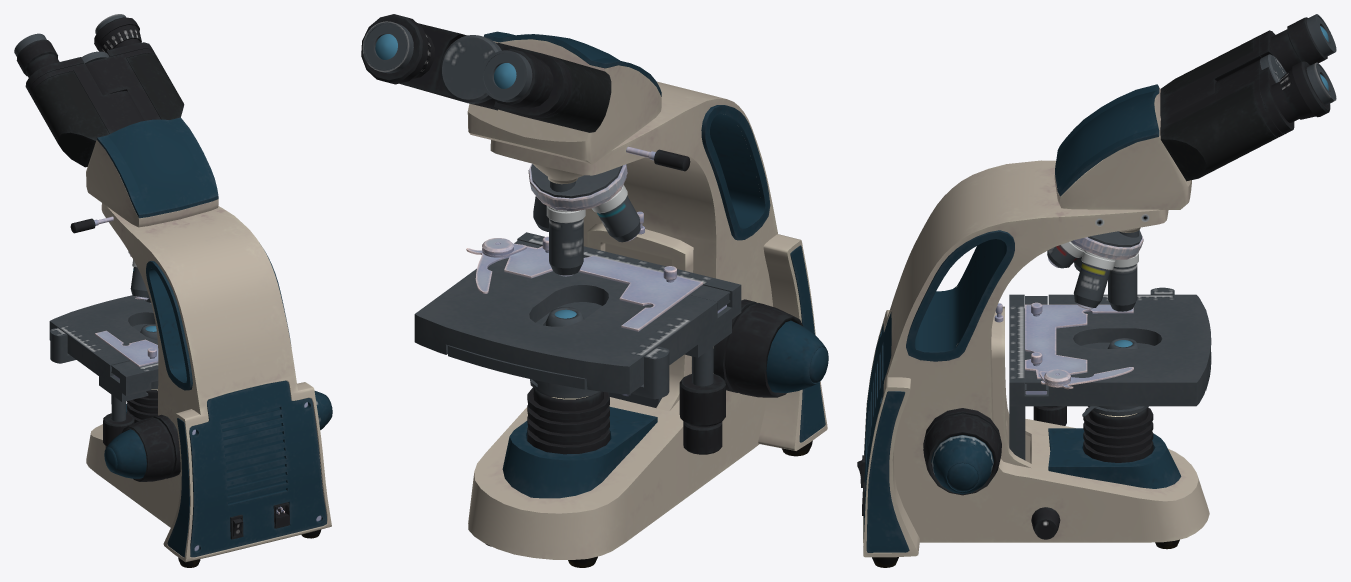
Rendered from microscope.glb.
3 renders of one model, left to right at view 1: azimuth 30°, elevation 25°; view 2: azimuth 150°, elevation 25°; view 3: azimuth 270°, elevation 25°, orthographic. The views are drawn at different scales.
Visible parts, largest first — view 1: MicroscopeBase_LowPoly__0, BackPanel_LowPoly__0, BinocularRotationalHeadTop_LowPoly__0, Binocular2_LowPoly__0, Platform_LowPoly__0, Binocular1_LowPoly__0, Handle_LowPoly__0, BinocularRotationalHead_LowPoly__0, CoarseAdjustment_LowPoly__0, FineAdjustment_LowPoly__0, SidePanel_LowPoly__0, SlideHolder_LowPoly__0 (+5 smaller); view 2: MicroscopeBase_LowPoly__0, Platform_LowPoly__0, BinocularRotationalHead_LowPoly__0, LightProtection_LowPoly__0, Handle_LowPoly__0, Binocular2_LowPoly__0, SlideHolder_LowPoly__0, CoarseAdjustment_LowPoly__0, HeadLight_LowPoly__0, Binocular1_LowPoly__0, FineAdjustment_LowPoly__0, BinocularLens_LowPoly__0 (+16 smaller); view 3: MicroscopeBase_LowPoly__0, Platform_LowPoly__0, Binocular1_LowPoly__0, Handle_LowPoly__0, BinocularRotationalHead_LowPoly__0, BinocularRotationalHeadTop_LowPoly__0, Binocular2_LowPoly__0, LightProtection_LowPoly__0, SidePanel_LowPoly__0, SlideHolder_LowPoly__0, HeadLight_LowPoly__0, ObjectiveLens_LowPoly__0 (+9 smaller).
Boxes of the visible parts, x1=… form: MicroscopeBase_LowPoly__0: x1=86, y1=203, x2=331, y2=562; BackPanel_LowPoly__0: x1=189, y1=380, x2=326, y2=557; BinocularRotationalHeadTop_LowPoly__0: x1=97, y1=117, x2=218, y2=218; Binocular2_LowPoly__0: x1=16, y1=39, x2=144, y2=167; Platform_LowPoly__0: x1=49, y1=295, x2=158, y2=395; Binocular1_LowPoly__0: x1=85, y1=17, x2=184, y2=120; Handle_LowPoly__0: x1=146, y1=250, x2=290, y2=390; BinocularRotationalHead_LowPoly__0: x1=86, y1=140, x2=218, y2=227; CoarseAdjustment_LowPoly__0: x1=122, y1=414, x2=180, y2=481; FineAdjustment_LowPoly__0: x1=104, y1=391, x2=332, y2=478; SidePanel_LowPoly__0: x1=167, y1=418, x2=189, y2=557; SlideHolder_LowPoly__0: x1=95, y1=330, x2=158, y2=366; MicroscopeBase_LowPoly__0: x1=468, y1=81, x2=827, y2=559; Platform_LowPoly__0: x1=414, y1=232, x2=741, y2=394; BinocularRotationalHead_LowPoly__0: x1=467, y1=39, x2=661, y2=164; LightProtection_LowPoly__0: x1=502, y1=407, x2=657, y2=498; Handle_LowPoly__0: x1=701, y1=105, x2=770, y2=240; Binocular2_LowPoly__0: x1=492, y1=43, x2=611, y2=132; SlideHolder_LowPoly__0: x1=504, y1=246, x2=703, y2=331; CoarseAdjustment_LowPoly__0: x1=713, y1=299, x2=803, y2=397; HeadLight_LowPoly__0: x1=527, y1=387, x2=609, y2=454; Binocular1_LowPoly__0: x1=361, y1=14, x2=501, y2=110; FineAdjustment_LowPoly__0: x1=766, y1=320, x2=828, y2=392; BinocularLens_LowPoly__0: x1=362, y1=21, x2=532, y2=102; MicroscopeBase_LowPoly__0: x1=863, y1=160, x2=1209, y2=557; Platform_LowPoly__0: x1=1009, y1=294, x2=1211, y2=406; Binocular1_LowPoly__0: x1=1160, y1=60, x2=1330, y2=181; Handle_LowPoly__0: x1=906, y1=230, x2=1014, y2=361; BinocularRotationalHead_LowPoly__0: x1=1054, y1=87, x2=1191, y2=209; BinocularRotationalHeadTop_LowPoly__0: x1=1055, y1=84, x2=1159, y2=196; Binocular2_LowPoly__0: x1=1160, y1=17, x2=1327, y2=120; LightProtection_LowPoly__0: x1=1048, y1=428, x2=1181, y2=488; SidePanel_LowPoly__0: x1=866, y1=391, x2=909, y2=552; SlideHolder_LowPoly__0: x1=1025, y1=304, x2=1133, y2=379; HeadLight_LowPoly__0: x1=1083, y1=407, x2=1153, y2=462; ObjectiveLens_LowPoly__0: x1=1047, y1=245, x2=1137, y2=311.
Bounding box in the file's own units: 0.7623 × 1.3 × 1.16.
1 material, 1 textured.
